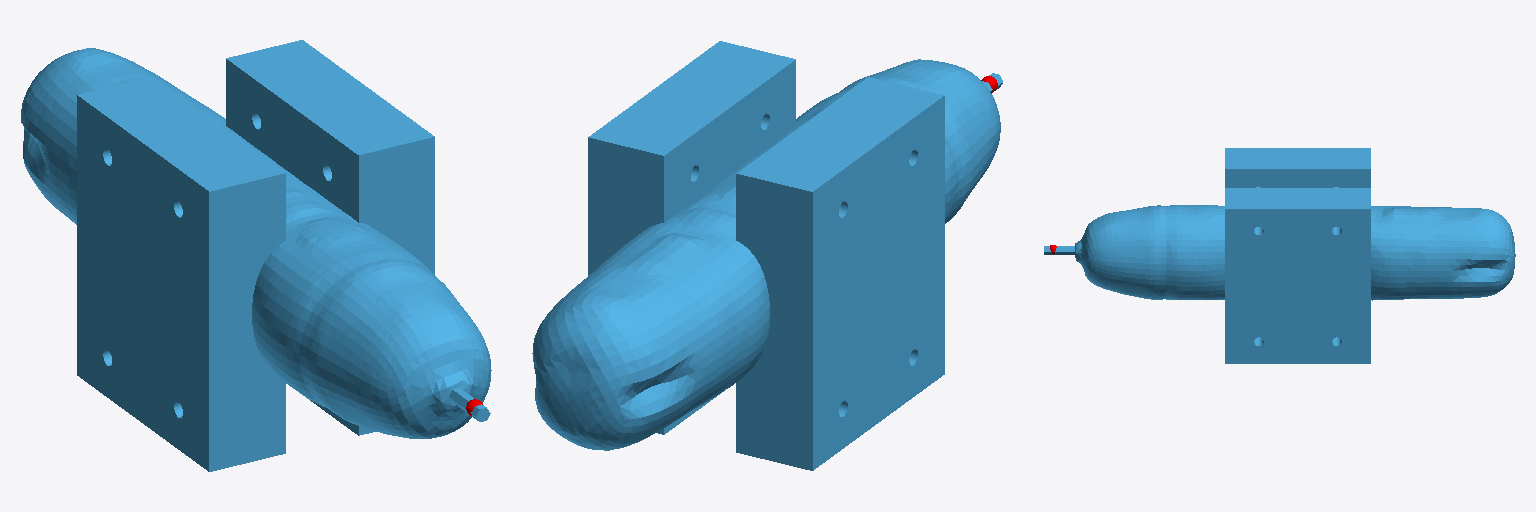
robot.urdf — endeffector:
<?xml version="1.0" ?>
<robot name="endeffector">

<link name="base">
</link>

<joint name="base_joint" type="fixed">
    <parent link="base"/>
    <child link="screwdriver"/>
    <origin rpy="0 0 0" xyz="-0.006 0.0 -0.006"/>
</joint>

<link name="screwdriver">
    <contact>
        <friction_anchor/>
        <stiffness value="3.0"/>
        <damping value="100000.00"/>
        <spinning_friction value="1.0"/>
        <lateral_friction value="1.0"/>
        <contact_cfm value="10000.0" />
        <contact_erp value="0.0" />
    </contact>
    <visual>
        <geometry>
                <mesh filename="endeffector_mesh/Schrauber.stl" scale="0.001 0.001 0.001"/>
        </geometry>
    </visual>
</link>
<joint name="screwdriver_joint" type="fixed">
    <parent link="base"/>
    <child link="screw_tip"/>
    <origin rpy="0 0 0" xyz="0.083 -0.10 0.026"/>
</joint>

<link name="screw_tip">
    <visual>
        <geometry>
            <sphere radius="0.002"/>
        </geometry>
        <material name="red">
            <color rgba="1.0 0.0 0.0 1.0"/>
        </material>
    </visual>
    <collision>
        <geometry>
            <sphere radius="0.002"/>
        </geometry>
    </collision>
</link>

</robot>

--- Facts derived from the render (not from the file) ---
The picture shows the robot from 3 angles, left to right: view 1: azimuth 30°, elevation 25°; view 2: azimuth 150°, elevation 25°; view 3: azimuth 270°, elevation 25°; orthographic projection.
Model endeffector with 3 links and 2 joints (2 fixed), rooted at base, posed every joint at zero.
Visible links, largest first — view 1: screwdriver; view 2: screwdriver; view 3: screwdriver.
Boxes of the visible links, bbox=[...] form: screwdriver: bbox=[21, 40, 491, 471]; screwdriver: bbox=[532, 41, 1002, 470]; screwdriver: bbox=[1044, 148, 1515, 363].
Size in the robot's own frame: 0.0589 by 0.1929 by 0.07 metres.
1 mesh visuals loaded from 1 distinct referenced files (1 binary STL).